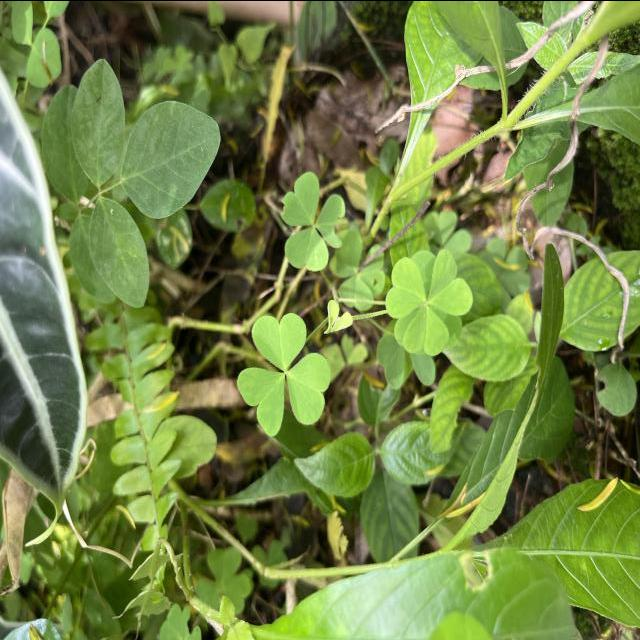Oxalis corniculata: (236, 309, 332, 436), (382, 245, 476, 357), (280, 170, 346, 271)
